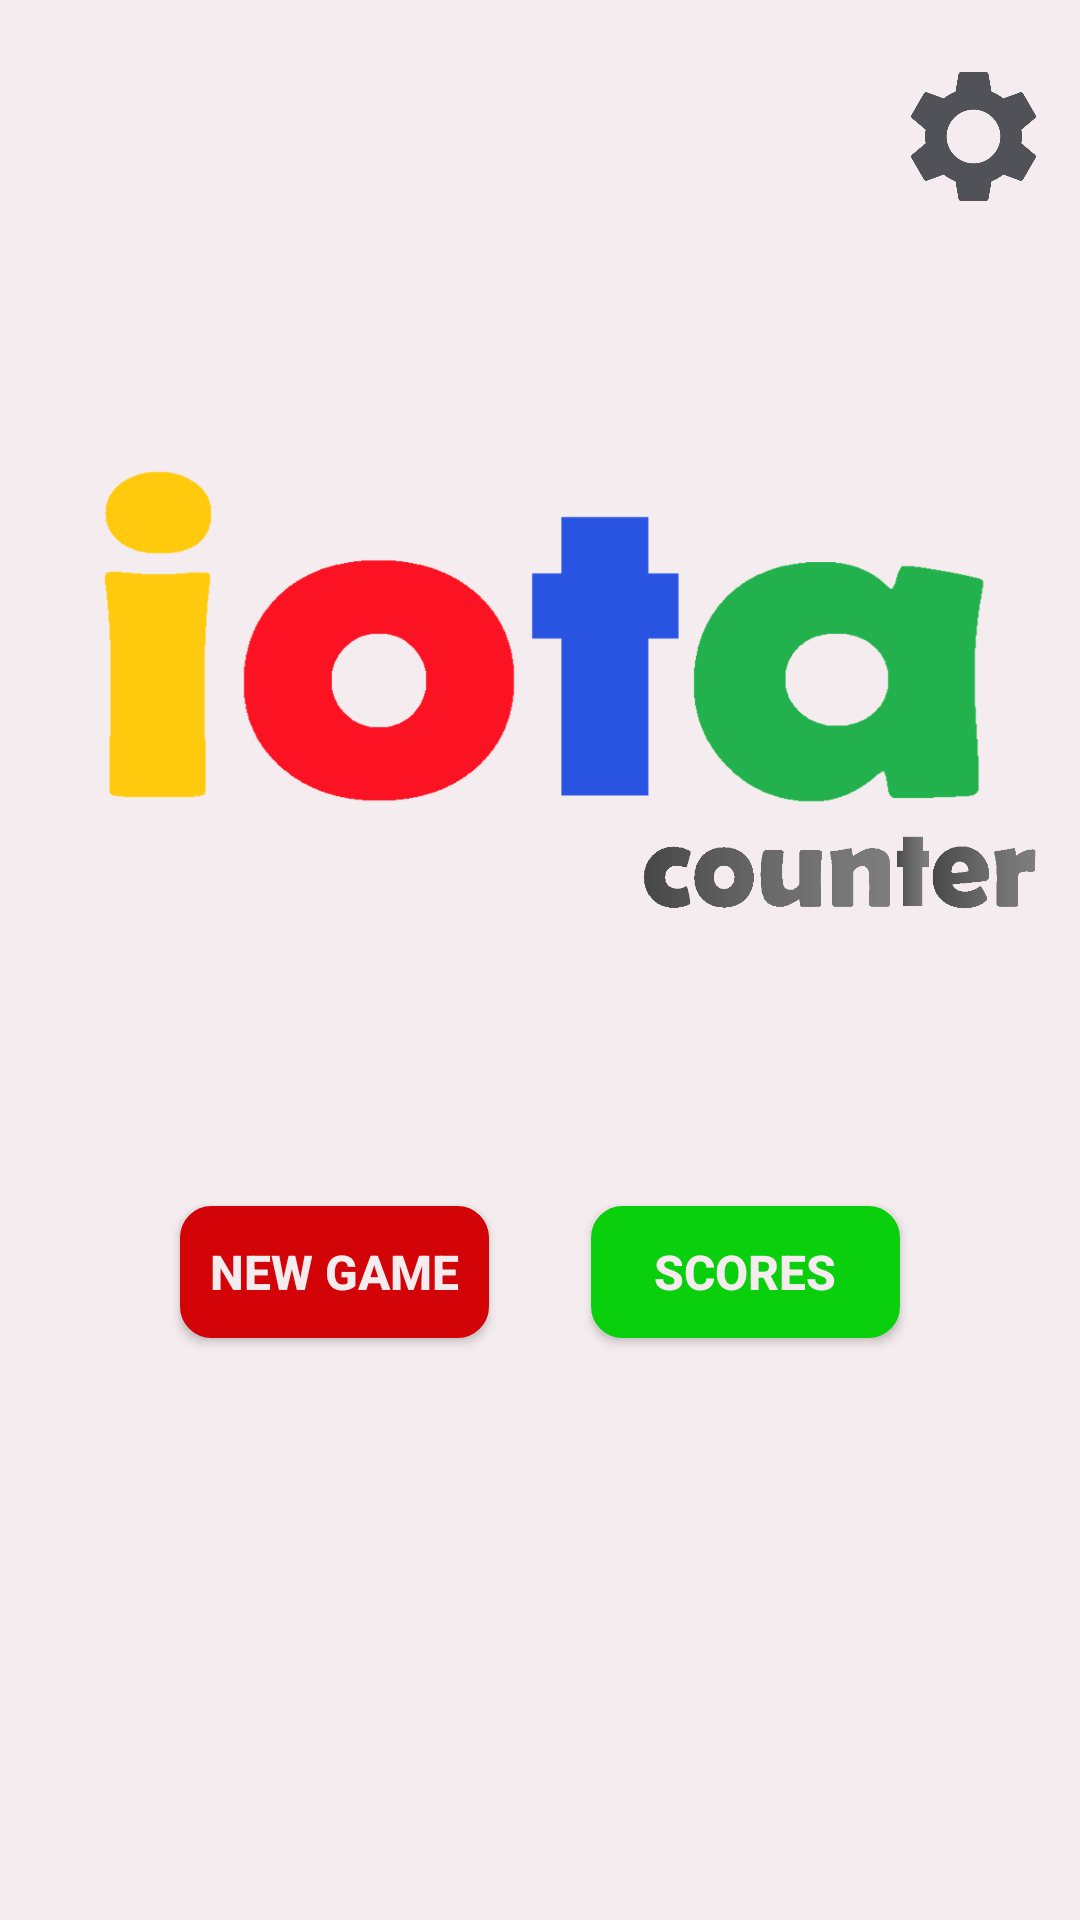

Where icons sit on this 1080 × 1920 app screen, as bbox(x1, y1, x2, y2):
gear: bbox(911, 72, 1036, 201)
